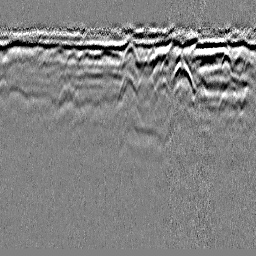cavity: (116, 68, 138, 104)
